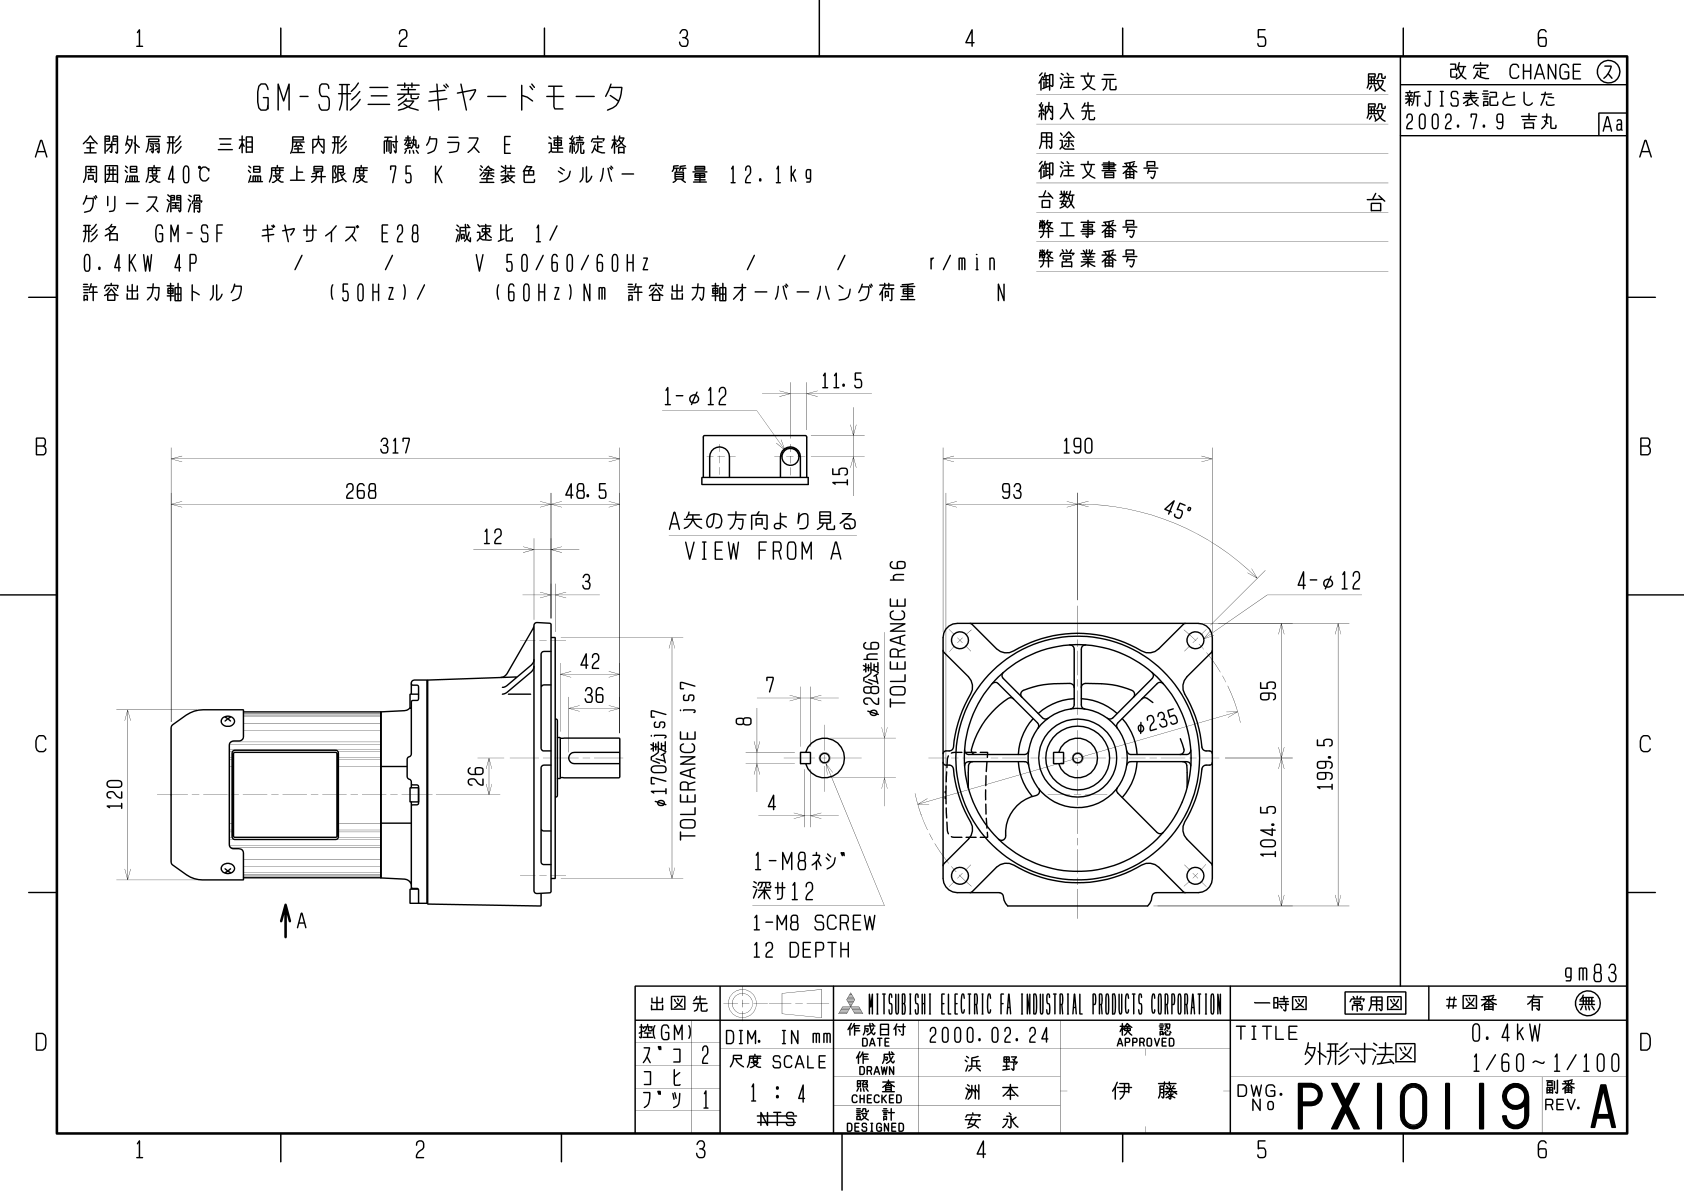GM_S_屋内＿三相_フランジ: (9, 13, 1684, 1191)
